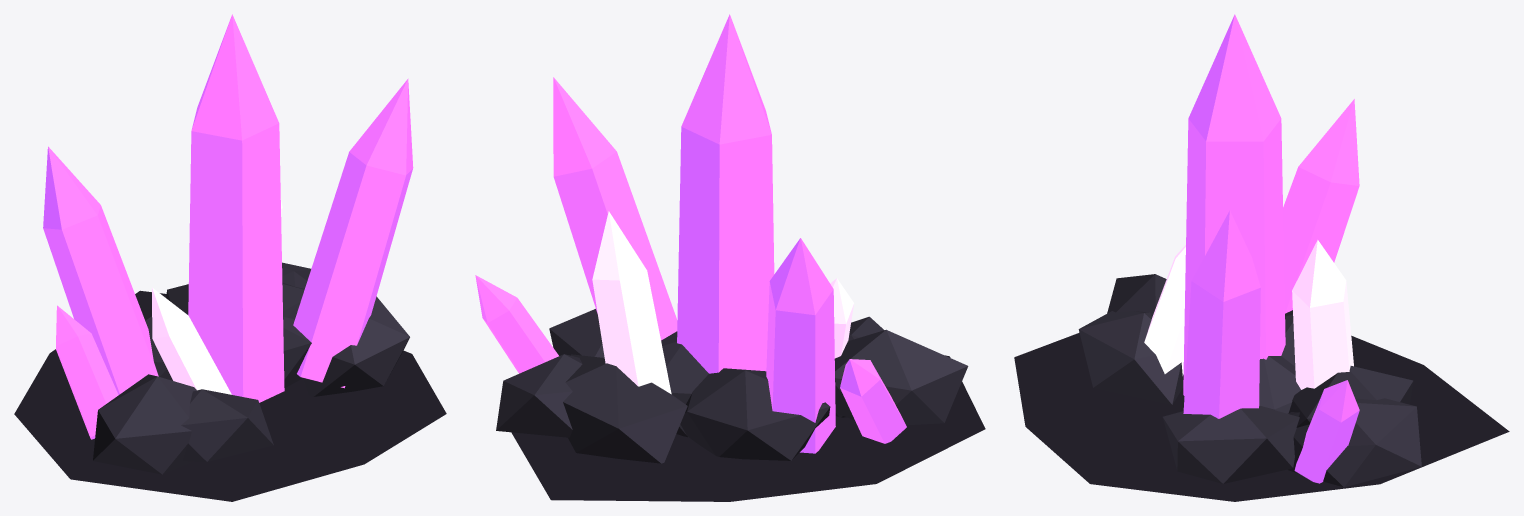
The model's file is void_crystals.glb.
3 views of the same model, side by side, from view 1: azimuth 30°, elevation 25°; view 2: azimuth 150°, elevation 25°; view 3: azimuth 270°, elevation 25° (orthographic). The views are drawn at different scales.
Visible parts, largest first — view 1: void_crystals; view 2: void_crystals; view 3: void_crystals.
Part boxes in pixels (<box>): void_crystals: <box>14,14,446,501</box>; void_crystals: <box>475,14,985,501</box>; void_crystals: <box>1014,14,1509,501</box>.
Size of the model in its own units: 1.75 by 1.63 by 1.82.
